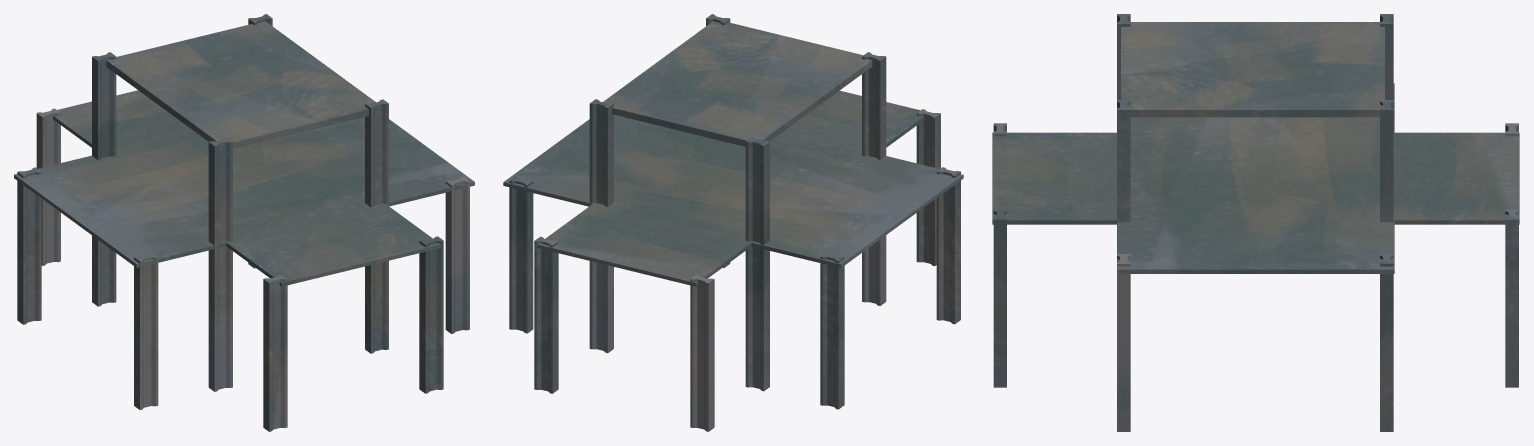
Rendered from CONS5.fbx.
3 renders of one model, left to right at view 1: azimuth 30°, elevation 25°; view 2: azimuth 150°, elevation 25°; view 3: azimuth 270°, elevation 25°, orthographic. The views are drawn at different scales.
Visible parts, largest first — view 1: Box050; view 2: Box050; view 3: Box050.
Part boxes in pixels (x1=…): Box050: x1=14, y1=14, x2=474, y2=431; Box050: x1=503, y1=14, x2=963, y2=431; Box050: x1=992, y1=14, x2=1519, y2=431.
Bounding box in the file's own units: 968 × 672 × 1159.
